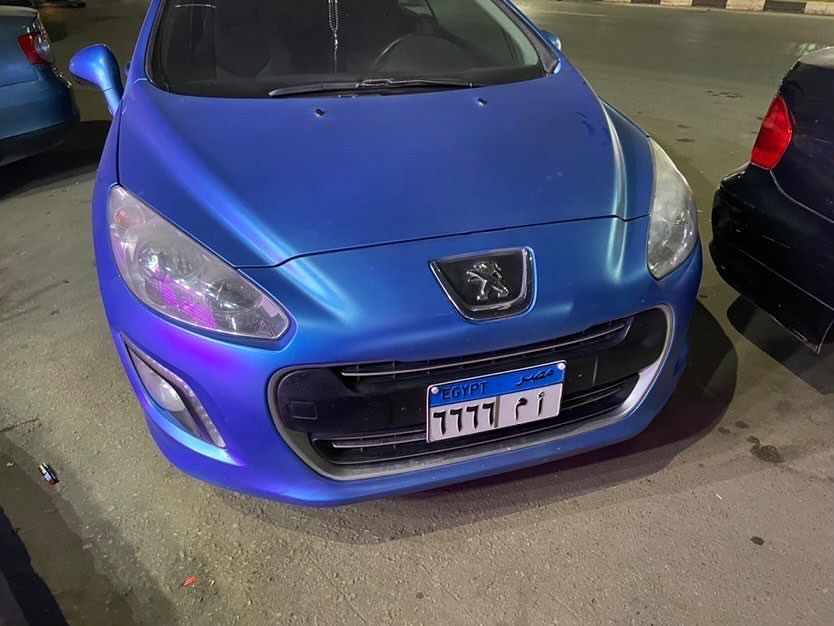carpl: (422, 359, 564, 443)
